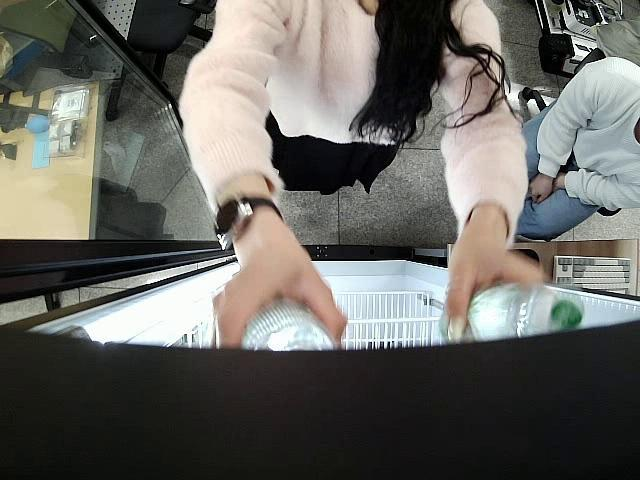18_trevi: (444, 278, 583, 346), (242, 302, 338, 354)
